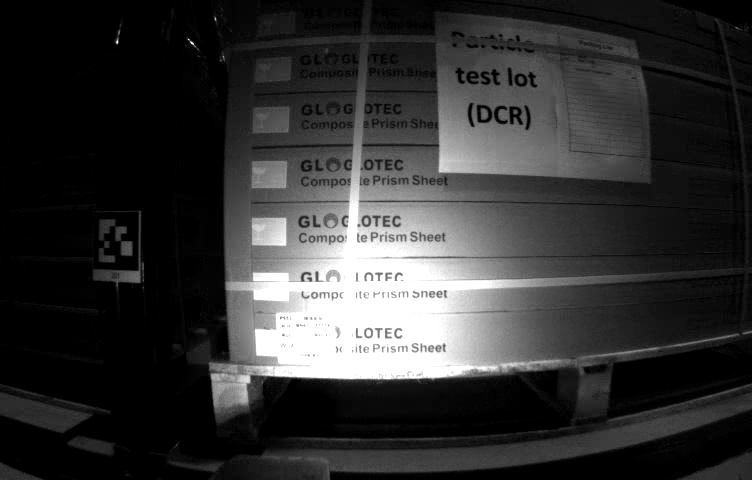True Barcode: (275, 310, 339, 365)
